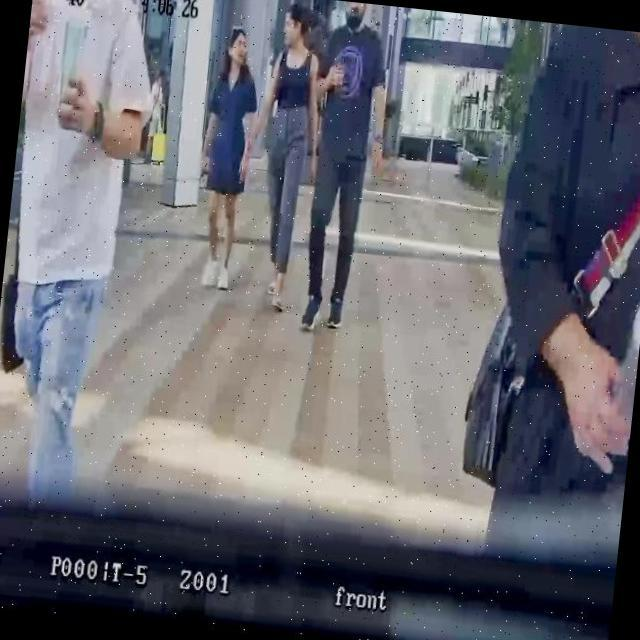person: (458, 17, 640, 505), (0, 0, 162, 468), (289, 0, 396, 336), (235, 1, 333, 315), (189, 23, 267, 292), (142, 66, 167, 165)
